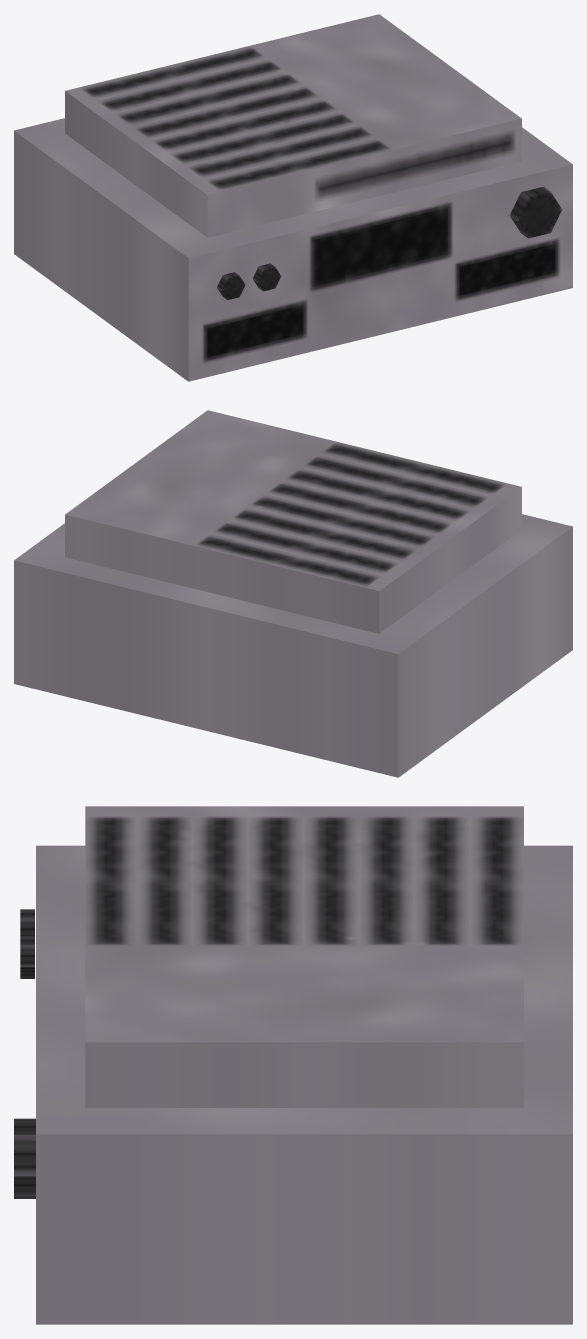
The model's file is Radio.glb.
3 renders of one model, top to bottom at view 1: azimuth 30°, elevation 25°; view 2: azimuth 150°, elevation 25°; view 3: azimuth 270°, elevation 25°, orthographic. The views are drawn at different scales.
Parts seen in each view (by area): view 1: Radio; view 2: Radio; view 3: Radio.
Boxes of the visible parts, x1,y1,x2,y2 form: Radio: [14, 14, 572, 381]; Radio: [14, 410, 572, 777]; Radio: [14, 806, 572, 1324].
Bounding box in the file's own units: 4.87 × 2.01 × 3.98.
Materials: 1 (1 with a texture image).
